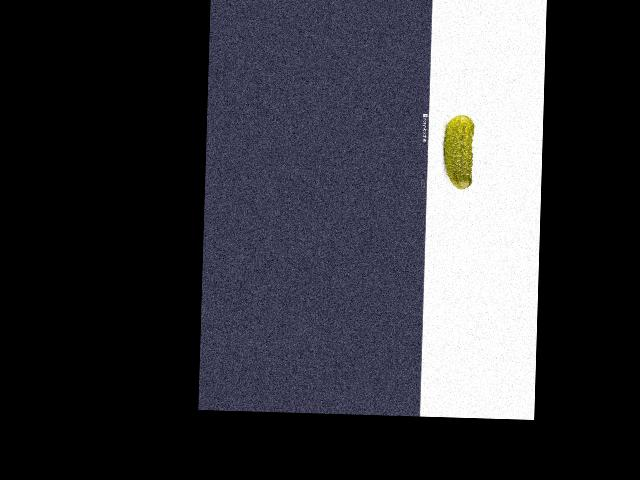cucumber: (442, 114, 474, 190)
